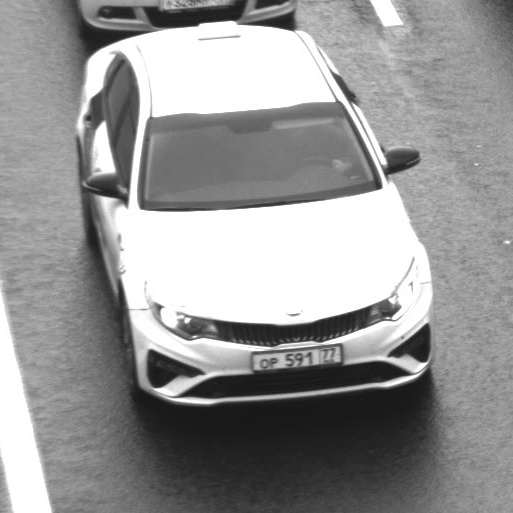plate: (242, 335, 354, 378)
